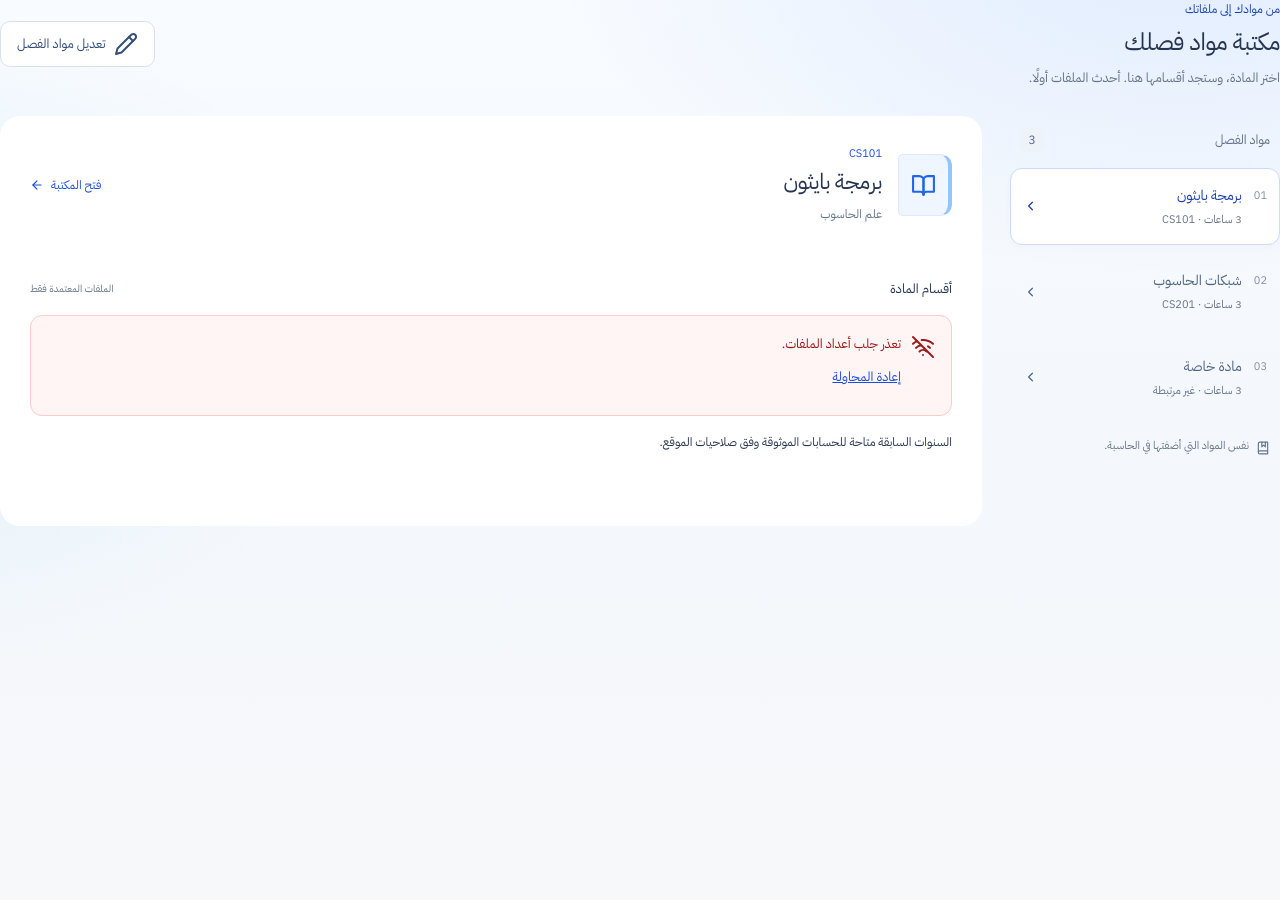
Test: semester library workspace › provides an honest retry state instead of showing zero files on failure
Expected: the link "تلاخيص وشروحات" is not shown
Click the button "إعادة المحاولة". click: (867, 377)
box: [832,355,901,399]
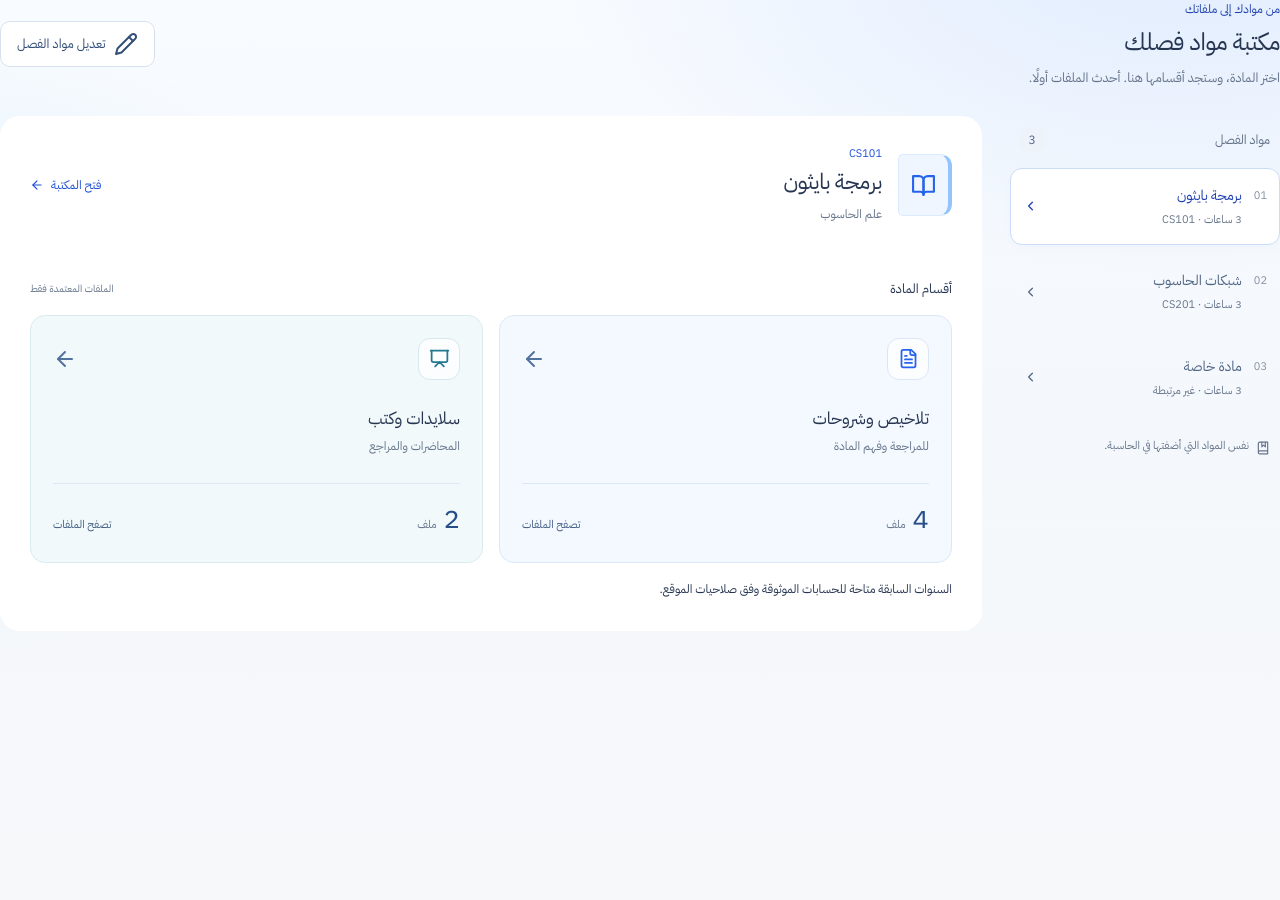
Result: the link "تلاخيص وشروحات للمراجعة وفهم المادة 4 ملف تصفح الملفات" is shown at [499,314,952,563]
